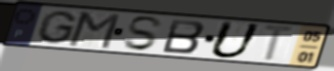B: (160, 18, 207, 55)
G: (34, 9, 80, 45)
M: (65, 10, 123, 51)
S: (121, 16, 165, 53)
T: (261, 23, 299, 63)
U: (206, 20, 264, 60)
